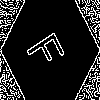F: (25, 25, 73, 74)
